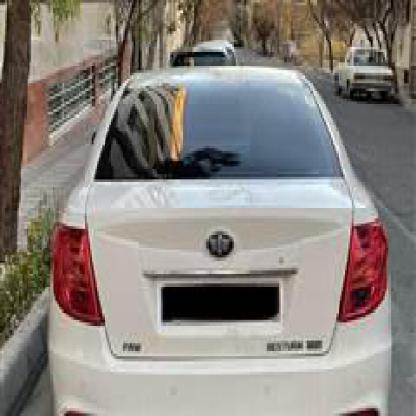car: (38, 65, 399, 413), (336, 21, 394, 104)
